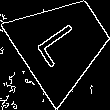L_NE: (34, 16, 92, 70)
